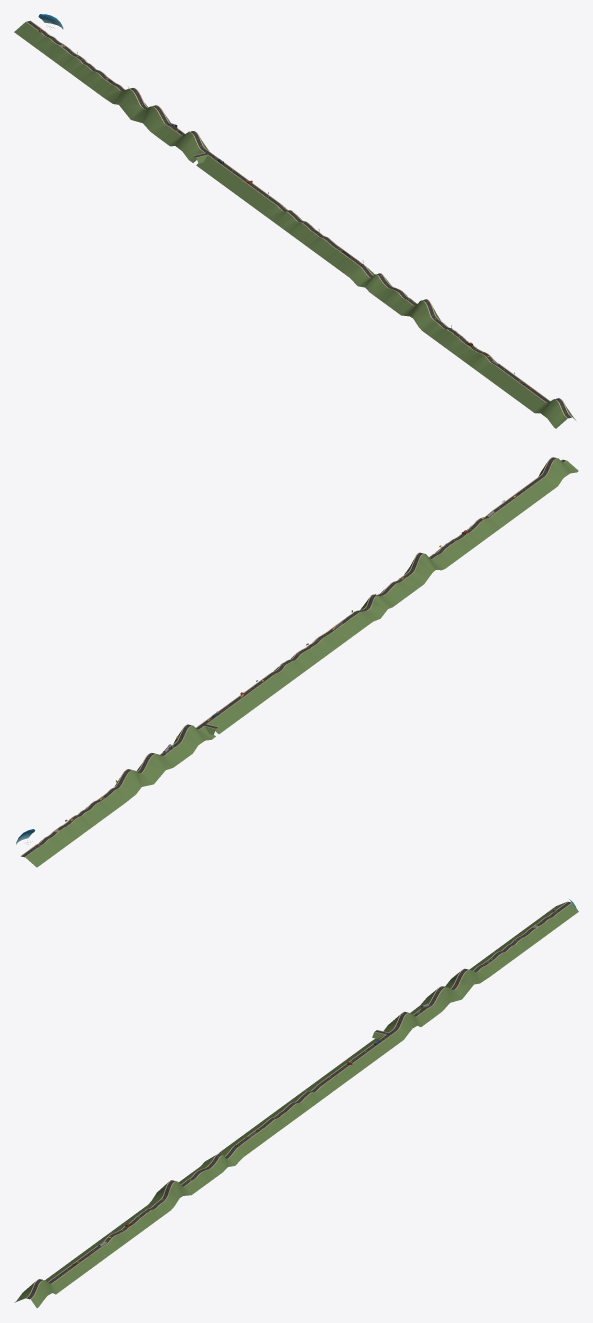
Rendered from level_2_desert.glb.
The picture shows the model from 3 angles, top to bottom: view 1: azimuth 30°, elevation 25°; view 2: azimuth 150°, elevation 25°; view 3: azimuth 330°, elevation 25°; orthographic projection.
Parts seen in each view (by area): view 1: road_hard_02, road_normal_08, road_easy_07, road_easy_10, road_easy_15, road_easy_00, road_mountain_angle_45, road_mountain_angle_50 (1), road_mountain_angle_50, road_easy_00_small_2, road_easy_00_small_2 (1); view 2: road_hard_02, road_normal_08, road_easy_10, road_easy_07, road_easy_15, road_easy_00, road_mountain_angle_45, road_mountain_angle_50 (1), road_mountain_angle_50, road_easy_00_small_2 (1), road_easy_00_small_2; view 3: road_hard_02, road_normal_08, road_easy_10, road_easy_07, road_easy_00, road_easy_15, road_mountain_angle_45, road_mountain_angle_50 (1), road_mountain_angle_50, road_easy_00_small_2, road_easy_00_small_2 (1).
Boxes of the visible parts, box(x1,y1,x2,y2) form: road_hard_02: box(98, 82, 177, 139); road_normal_08: box(337, 257, 416, 314); road_easy_07: box(28, 31, 107, 88); road_easy_10: box(262, 202, 341, 259); road_easy_15: box(423, 320, 502, 377); road_easy_00: box(198, 155, 277, 213); road_mountain_angle_45: box(400, 299, 440, 331); road_mountain_angle_50 (1): box(533, 398, 575, 428); road_mountain_angle_50: box(168, 131, 208, 161); road_easy_00_small_2: box(487, 366, 526, 394); road_easy_00_small_2 (1): box(510, 383, 549, 411); road_hard_02: box(105, 749, 184, 805); road_normal_08: box(343, 573, 422, 631); road_easy_10: box(268, 628, 347, 686); road_easy_07: box(35, 799, 114, 856); road_easy_15: box(430, 510, 509, 567); road_easy_00: box(205, 675, 284, 732); road_mountain_angle_45: box(404, 552, 445, 584); road_mountain_angle_50 (1): box(538, 457, 578, 487); road_mountain_angle_50: box(173, 724, 213, 754); road_easy_00_small_2 (1): box(516, 476, 555, 504); road_easy_00_small_2: box(493, 493, 532, 521); road_hard_02: box(410, 963, 494, 1019); road_normal_08: box(179, 1137, 255, 1193); road_easy_10: box(245, 1083, 330, 1138); road_easy_07: box(479, 912, 564, 968); road_easy_00: box(309, 1036, 394, 1092); road_easy_15: box(84, 1201, 169, 1257); road_mountain_angle_45: box(147, 1180, 192, 1210); road_mountain_angle_50 (1): box(14, 1279, 59, 1307); road_mountain_angle_50: box(383, 1011, 424, 1040); road_easy_00_small_2: box(61, 1247, 105, 1274); road_easy_00_small_2 (1): box(45, 1264, 82, 1291).
Size of the model in its own units: 58.1 by 41.86 by 1665.
Materials: 7 (7 with a texture image).
